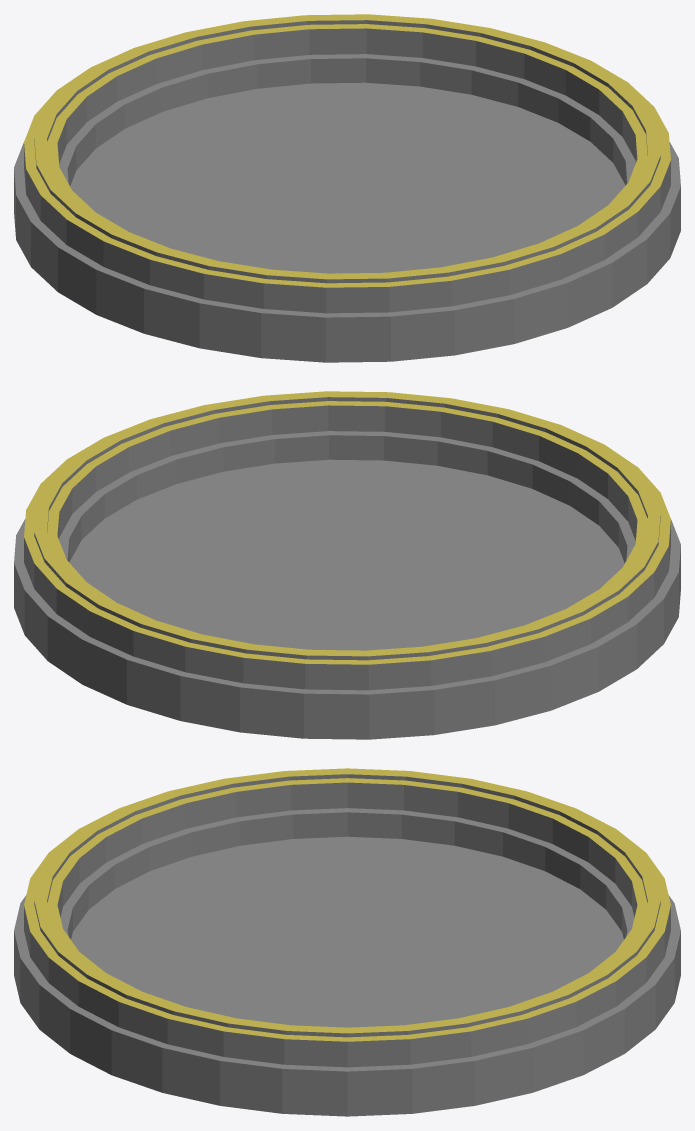
The model's file is redondel.fbx.
3 views of the same model, one above another, from view 1: azimuth 30°, elevation 25°; view 2: azimuth 150°, elevation 25°; view 3: azimuth 270°, elevation 25° (orthographic).
Parts seen in each view (by area): view 1: Círculo; view 2: Círculo; view 3: Círculo.
Part boxes in pixels (x1=…): Círculo: x1=14, y1=14, x2=680, y2=362; Círculo: x1=14, y1=391, x2=680, y2=739; Círculo: x1=14, y1=768, x2=680, y2=1116.
Bounding box in the file's own units: 200 × 24.64 × 200.
